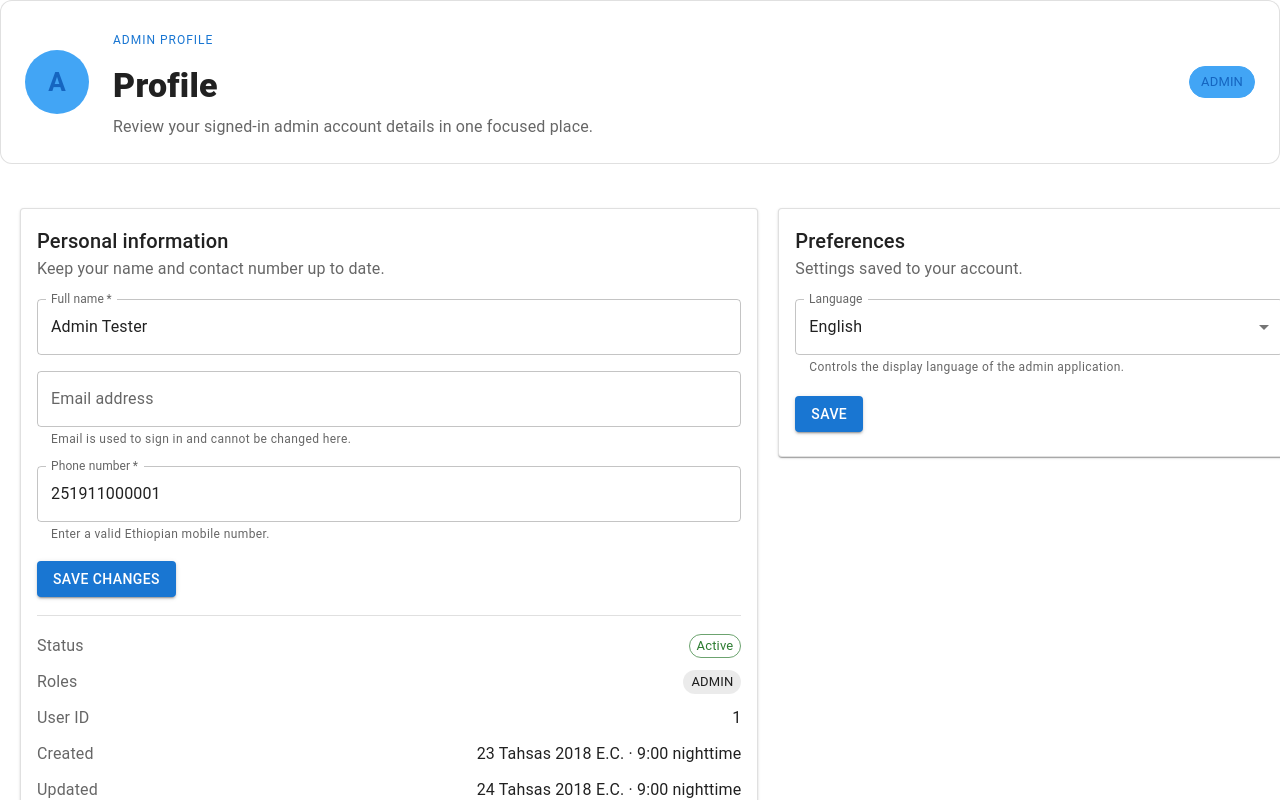
Test case: ProfilePage › saves Amharic, updates the session, and announces success
What coordinates should you click on to do the following:
click the dropdown named "Language"
I would click on:
 (836, 327)
Its box is [809,317,862,336].
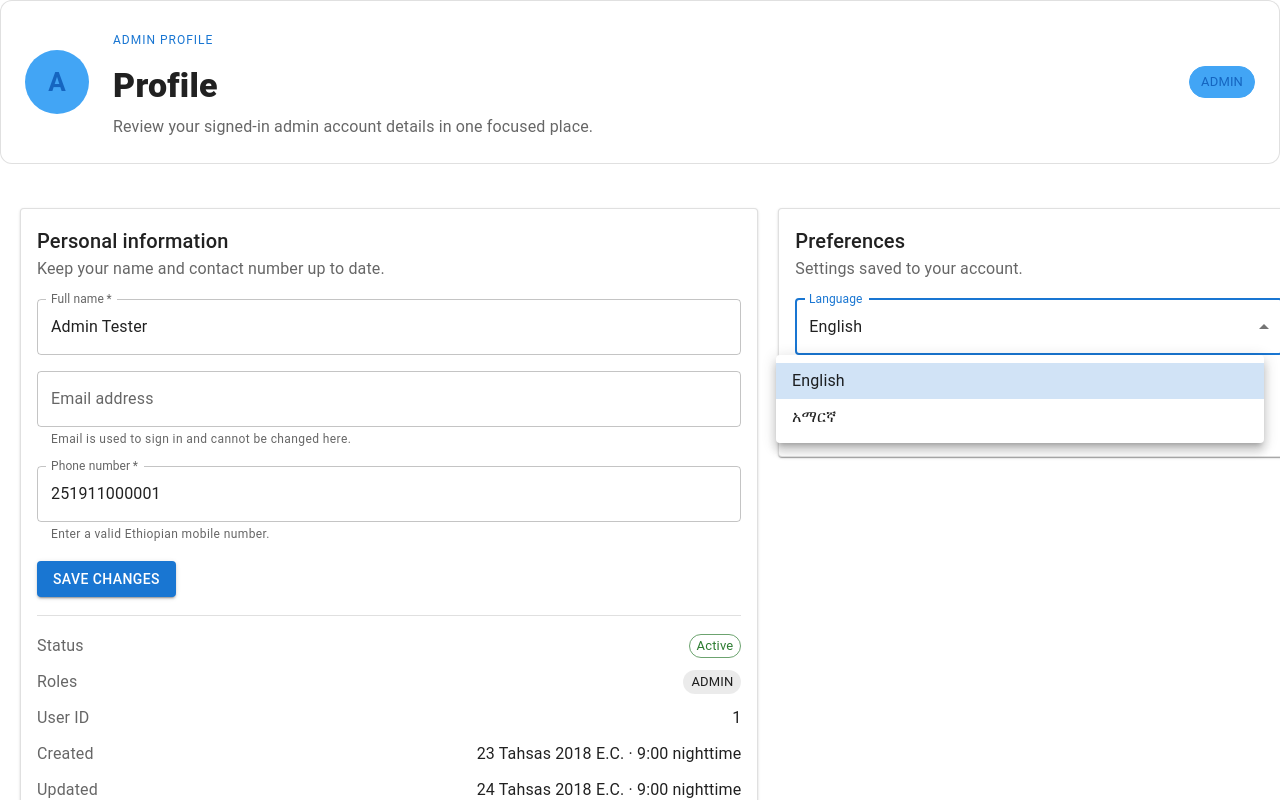
What coordinates should you click on to do the following:
click the option "አማርኛ"
I would click on:
 (814, 416)
Its box is [792,407,836,426].
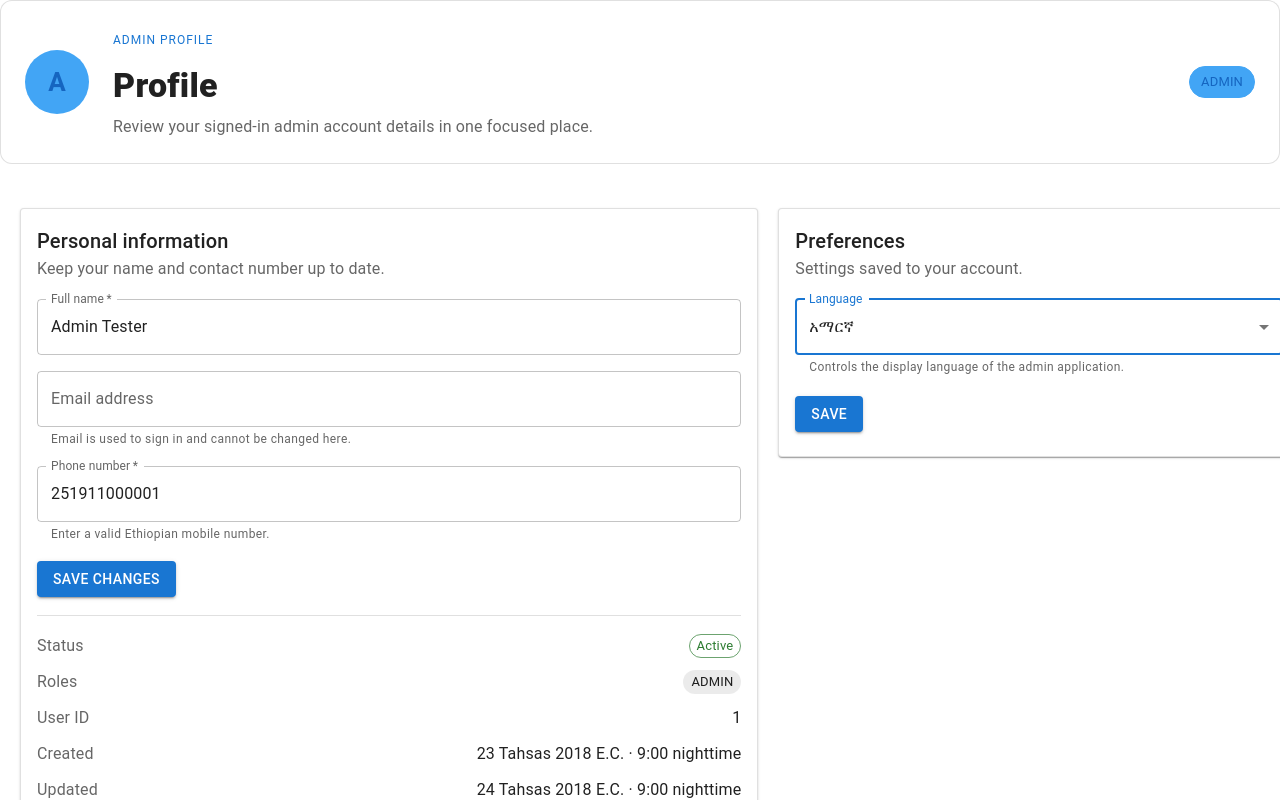
What coordinates should you click on to do the following:
click the button "Save"
I would click on:
 (829, 414)
Its box is [795,396,863,432].
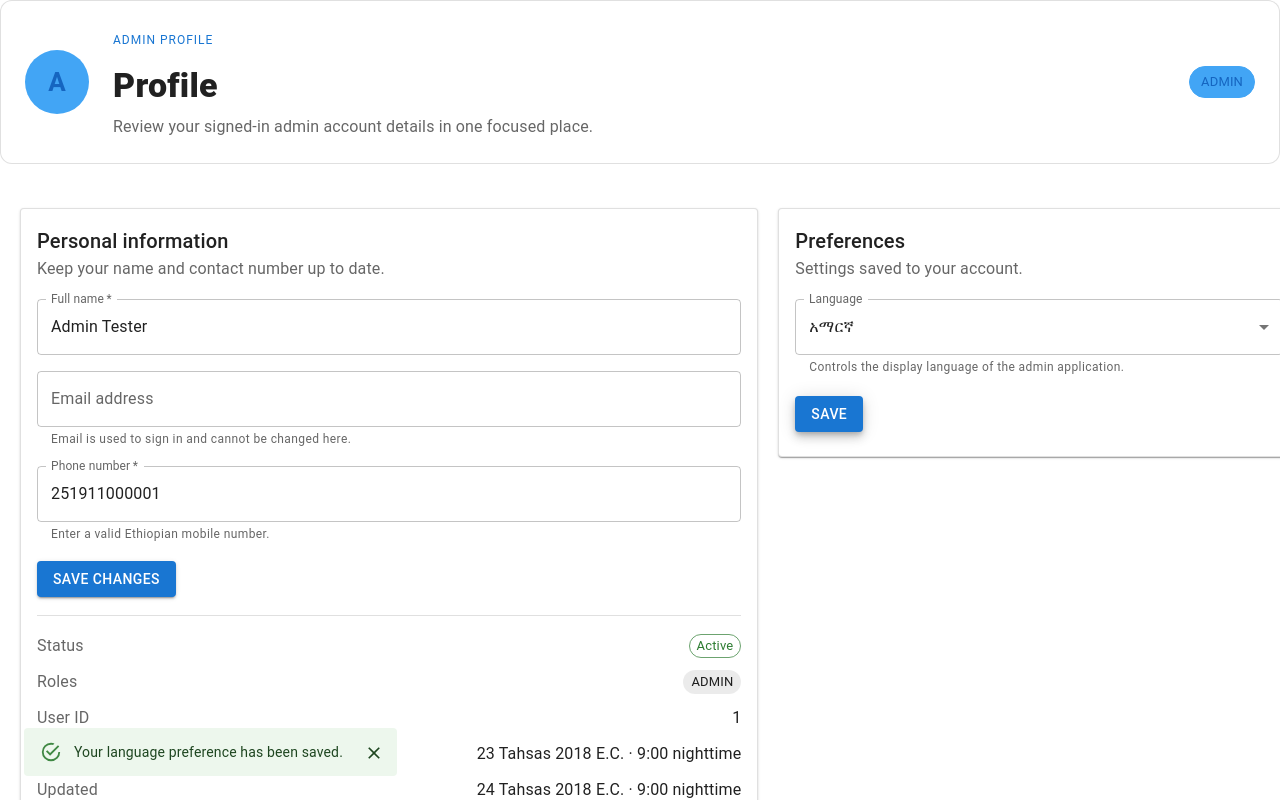
Result: the text "Your language preference has been saved." is shown at [74,744,343,760]
